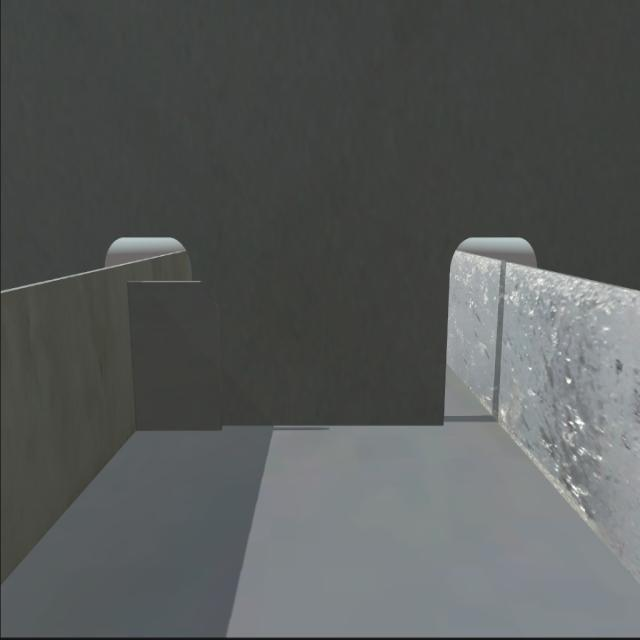fillet_yong_jeop_jang: (128, 415, 452, 441)
longi_yong_jeop_jang: (123, 274, 141, 436)
plate_CP03: (128, 281, 225, 435)
